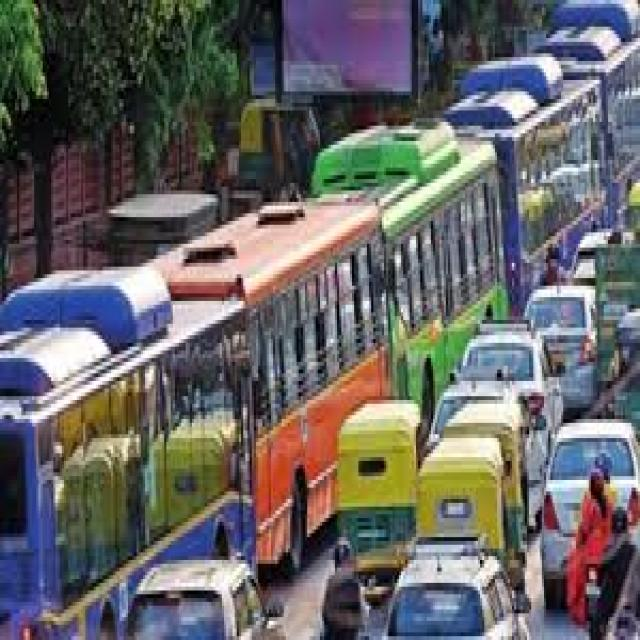bus: (0, 267, 252, 640), (173, 202, 388, 564), (311, 122, 506, 427), (446, 53, 604, 316)
car: (542, 419, 638, 606), (459, 331, 561, 480), (388, 549, 529, 640), (128, 560, 260, 640), (525, 286, 595, 411)
person: (567, 469, 610, 625), (322, 537, 361, 640)
three wheeler: (339, 400, 418, 583), (444, 400, 525, 552), (416, 438, 501, 560)
